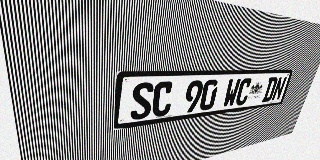0: (199, 79, 219, 111)
9: (183, 80, 204, 113)
C: (151, 81, 174, 118), (234, 78, 253, 106)
D: (262, 77, 279, 102)
N: (271, 77, 287, 101)
S: (130, 82, 154, 121)
W: (222, 78, 241, 108)
